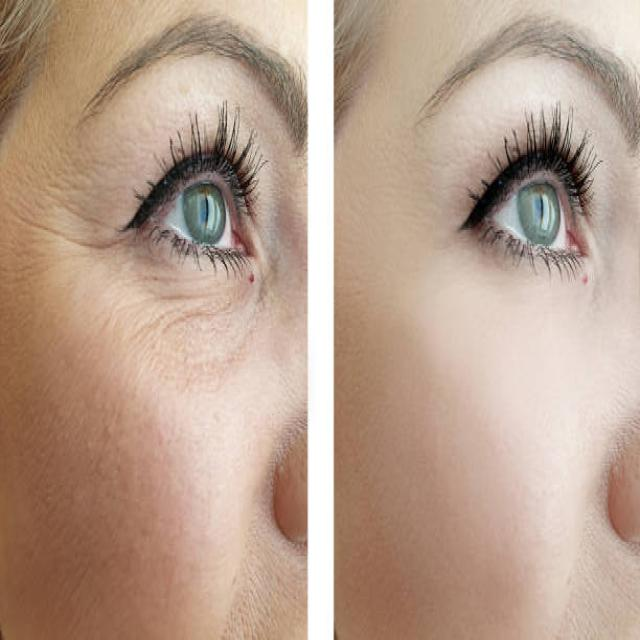Dry-Skin: (0, 187, 155, 640)
